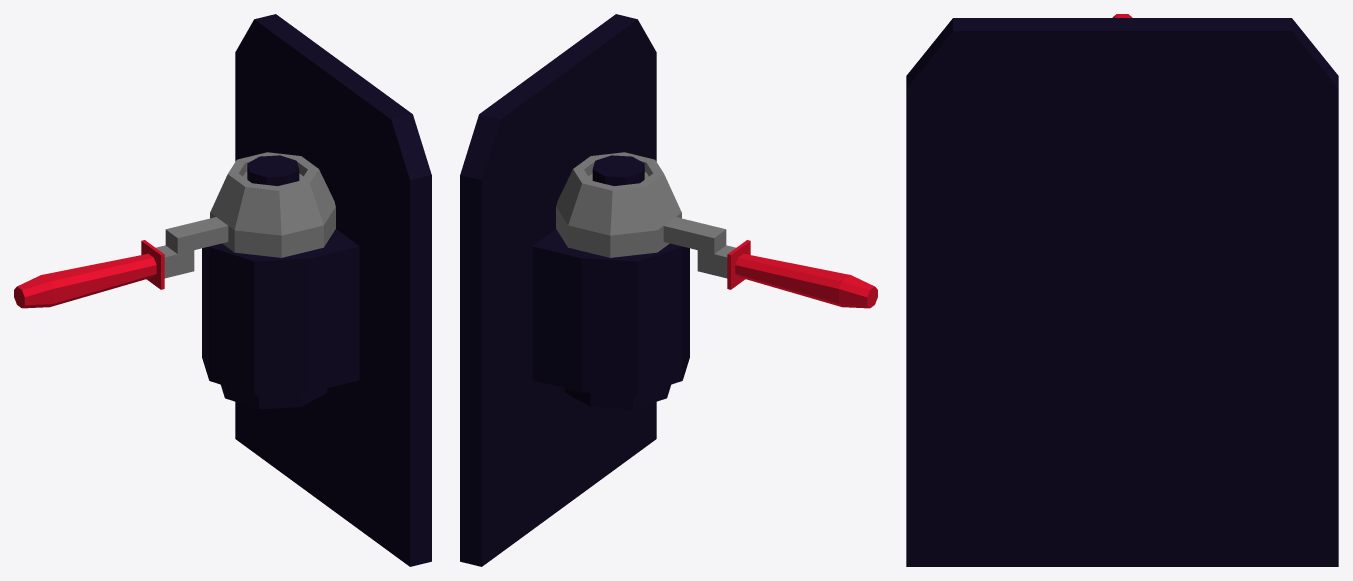
Rendered from BrakeLever.fbx.
3 renders of one model, left to right at view 1: azimuth 30°, elevation 25°; view 2: azimuth 150°, elevation 25°; view 3: azimuth 270°, elevation 25°, orthographic. The views are drawn at different scales.
Parts seen in each view (by area): view 1: BrakeLever_BackPlate, BrakeLeaver; view 2: BrakeLever_BackPlate, BrakeLeaver; view 3: BrakeLever_BackPlate.
Boxes of the visible parts, x1,y1,x2,y2 form: BrakeLever_BackPlate: (202,14,431,566); BrakeLeaver: (14,152,335,308); BrakeLever_BackPlate: (460,14,689,566); BrakeLeaver: (556,152,877,308); BrakeLever_BackPlate: (906,18,1338,566).
Bounding box in the file's own units: 0.3734 × 0.348 × 0.476.
